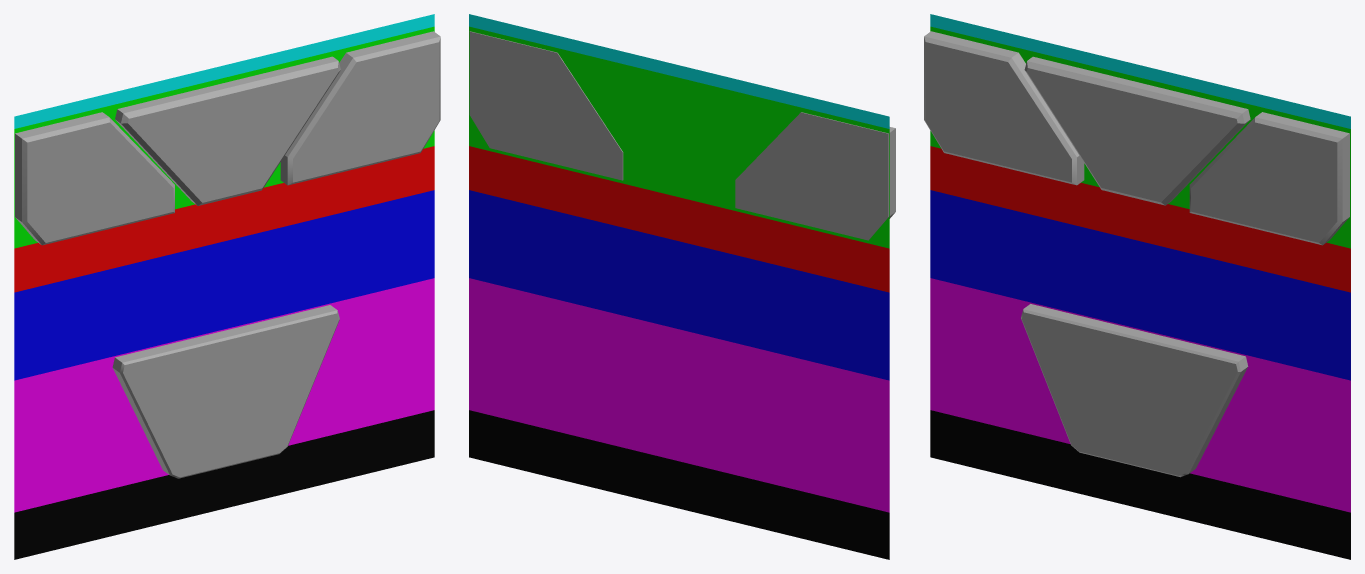
The model's file is Trim_4_high.fbx.
3 renders of one model, left to right at view 1: azimuth 30°, elevation 25°; view 2: azimuth 150°, elevation 25°; view 3: azimuth 330°, elevation 25°, orthographic.
Visible parts, largest first — view 1: Trim_4_ldawawfa, polySurface406, polySurface403; view 2: Trim_4_ldawawfa, polySurface406; view 3: Trim_4_ldawawfa, polySurface406, polySurface403.
Part boxes in pixels (x1,y1,x2,y2): Trim_4_ldawawfa: (14,14,434,559); polySurface406: (15,31,440,245); polySurface403: (112,305,339,478); Trim_4_ldawawfa: (469,14,889,559); polySurface406: (469,31,895,240); Trim_4_ldawawfa: (930,14,1350,559); polySurface406: (924,31,1349,245); polySurface403: (1021,304,1248,477).
Size of the model in its own units: 394 by 397 by 15.23.
